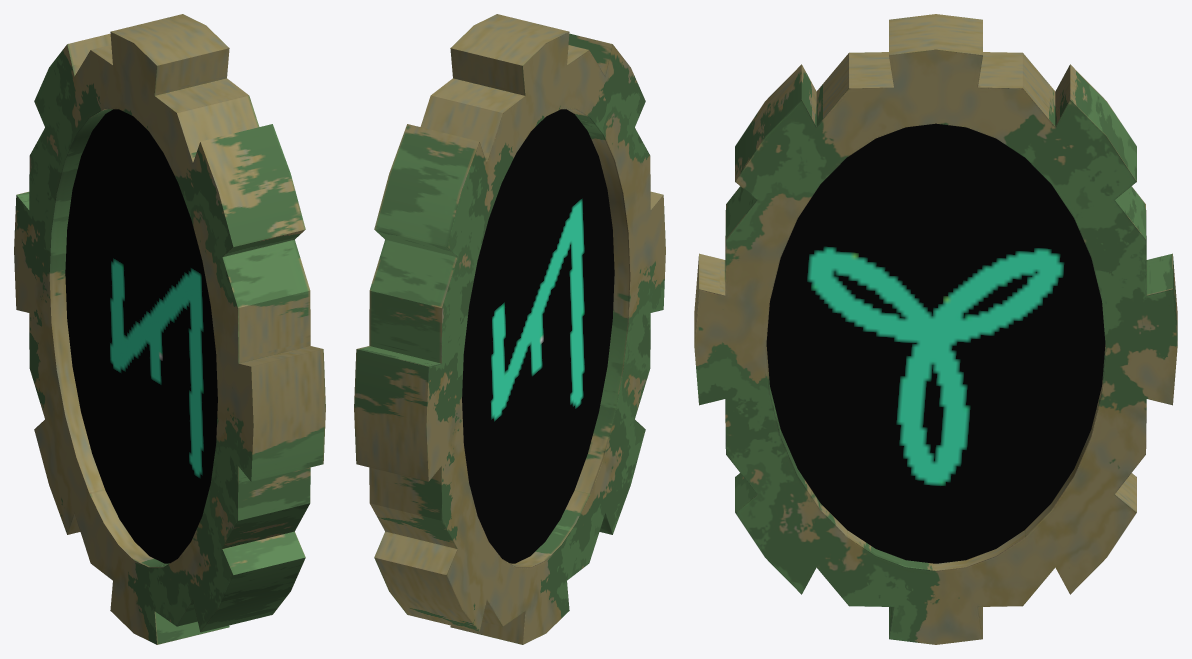
File: MirrorSolution.fbx
3 renders of one model, left to right at view 1: azimuth 30°, elevation 25°; view 2: azimuth 150°, elevation 25°; view 3: azimuth 270°, elevation 25°, orthographic.
Visible parts, largest first — view 1: Circle.012, Circle.029; view 2: Circle.012, Circle.029; view 3: Circle.027, Circle.012.
Boxes of the visible parts, <box> form: Circle.012: <box>14,14,325,644</box>; Circle.029: <box>65,109,217,563</box>; Circle.012: <box>354,14,665,644</box>; Circle.029: <box>462,109,614,563</box>; Circle.027: <box>766,123,1105,563</box>; Circle.012: <box>694,14,1177,644</box>.
Size of the model in its own units: 39.22 by 306 by 225.
Materials: 2 (2 with a texture image).
